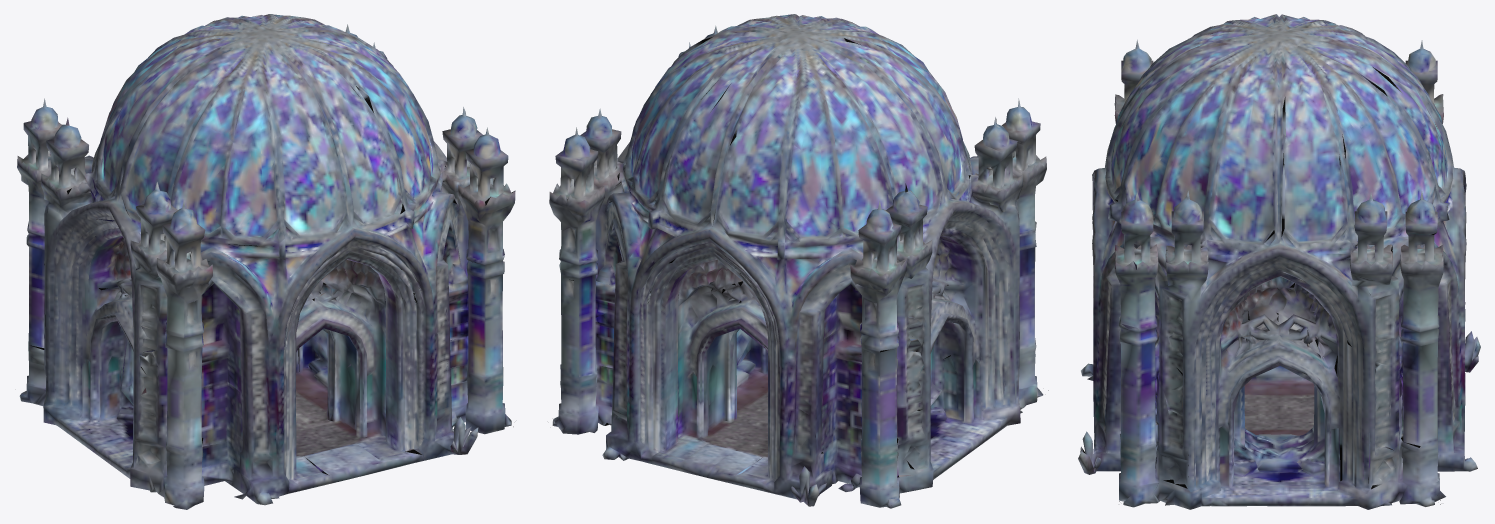
Rendered from Crystal_Citadel.fbx.
The picture shows the model from 3 angles, left to right: view 1: azimuth 30°, elevation 25°; view 2: azimuth 150°, elevation 25°; view 3: azimuth 270°, elevation 25°; orthographic projection. The views are drawn at different scales.
Parts seen in each view (by area): view 1: Crystal_Citadel_LOD0; view 2: Crystal_Citadel_LOD0; view 3: Crystal_Citadel_LOD0.
Boxes of the visible parts, bbox=[...] form: Crystal_Citadel_LOD0: bbox=[17, 14, 515, 509]; Crystal_Citadel_LOD0: bbox=[549, 14, 1048, 508]; Crystal_Citadel_LOD0: bbox=[1078, 14, 1480, 509].
Size of what is drawn, in the model's own units: 1.89 by 1.9 by 1.8.
Materials: 1 (1 with a texture image).
